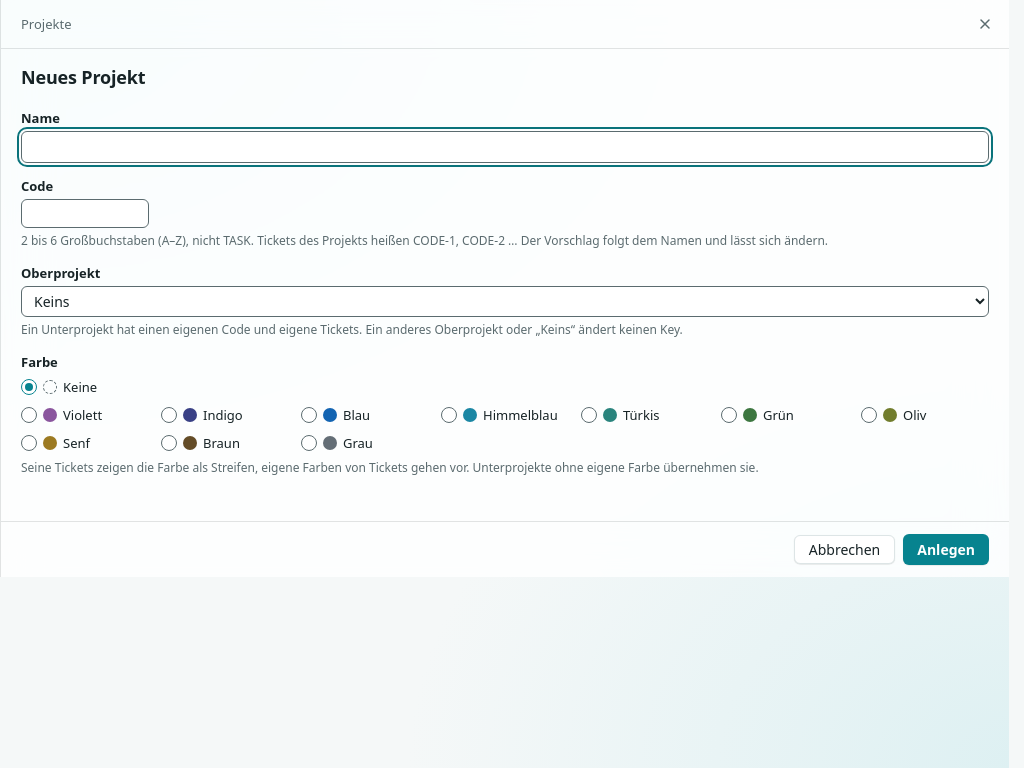
project panel: creating › checks TASK and the pattern before sending and shows the problem at the field
The image size is (1024, 768).
Type "Aufgaben" into the field labelled "Name".
click(505, 147); type("Aufgaben")  # box [21,131,989,163]
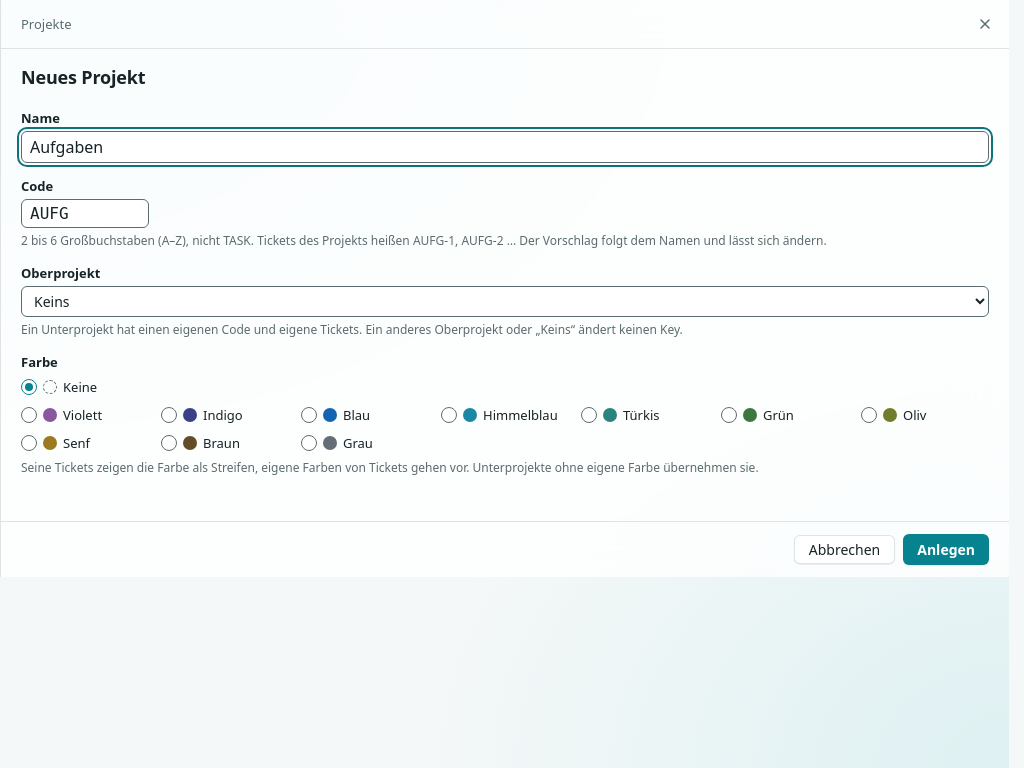
Replace the text in the field labelled "Code" with "TASK" at x=85, y=214, box [21,199,149,228]
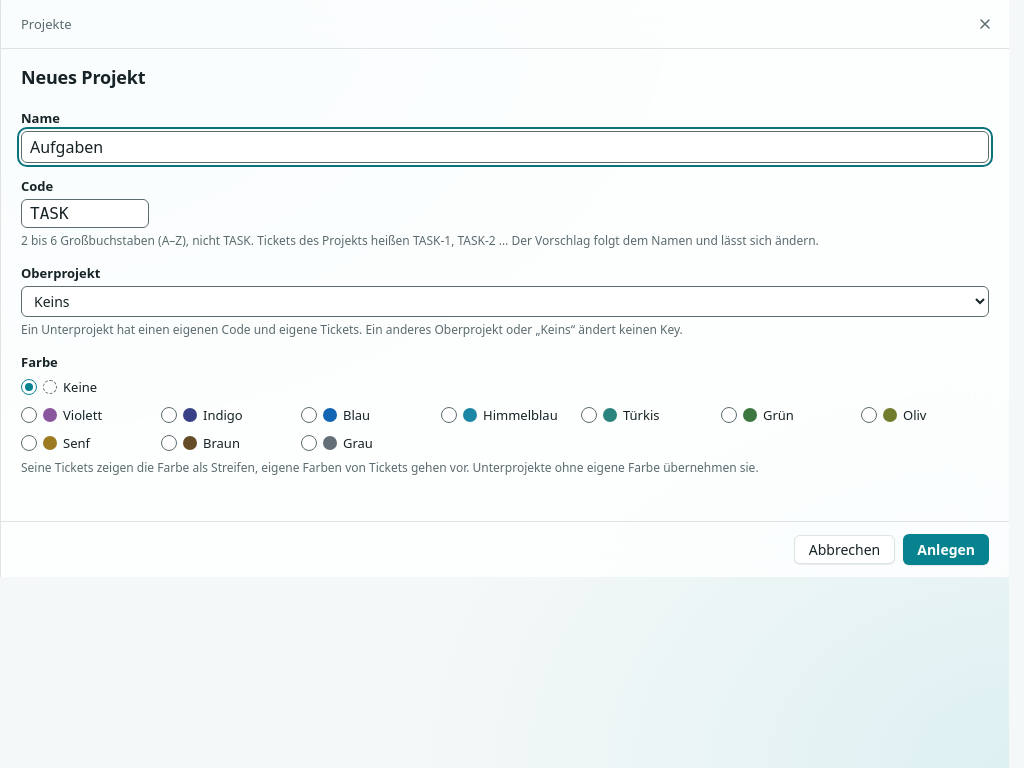
Click the button "Anlegen".
click(946, 550)  # box [903,534,989,565]
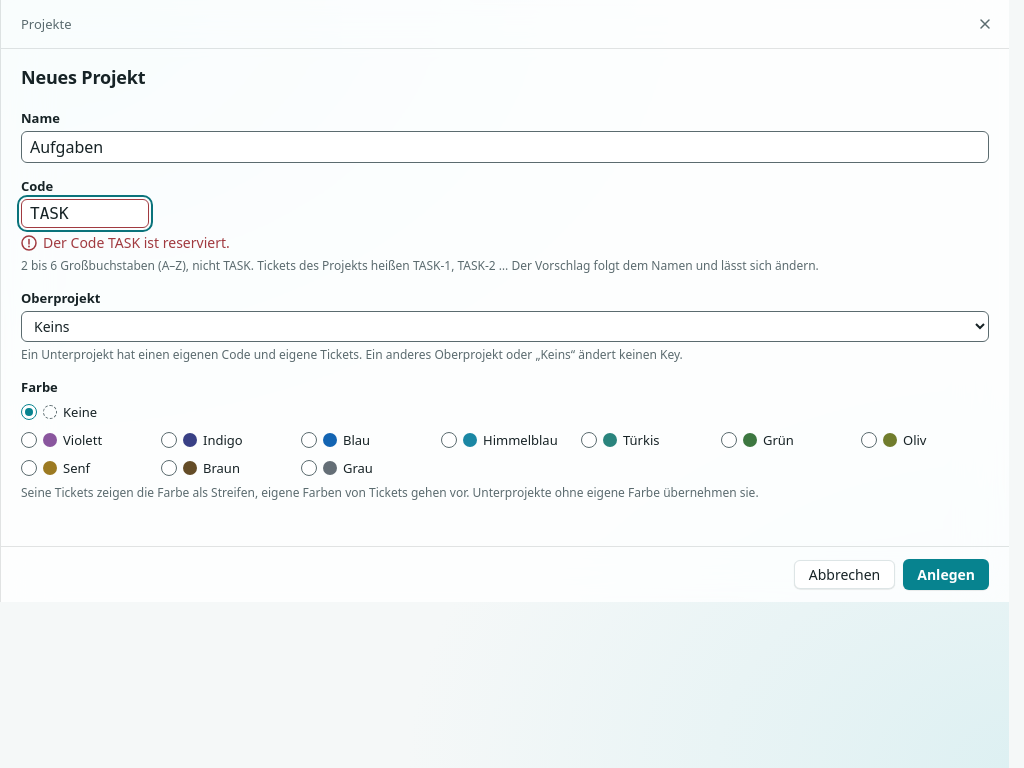
Expected: the text "Der Code TASK ist reserviert." is shown, [43,232,230,253]
Replace the text in the field labelled "Code" with "A1" at x=85, y=214, box [21,199,149,228]
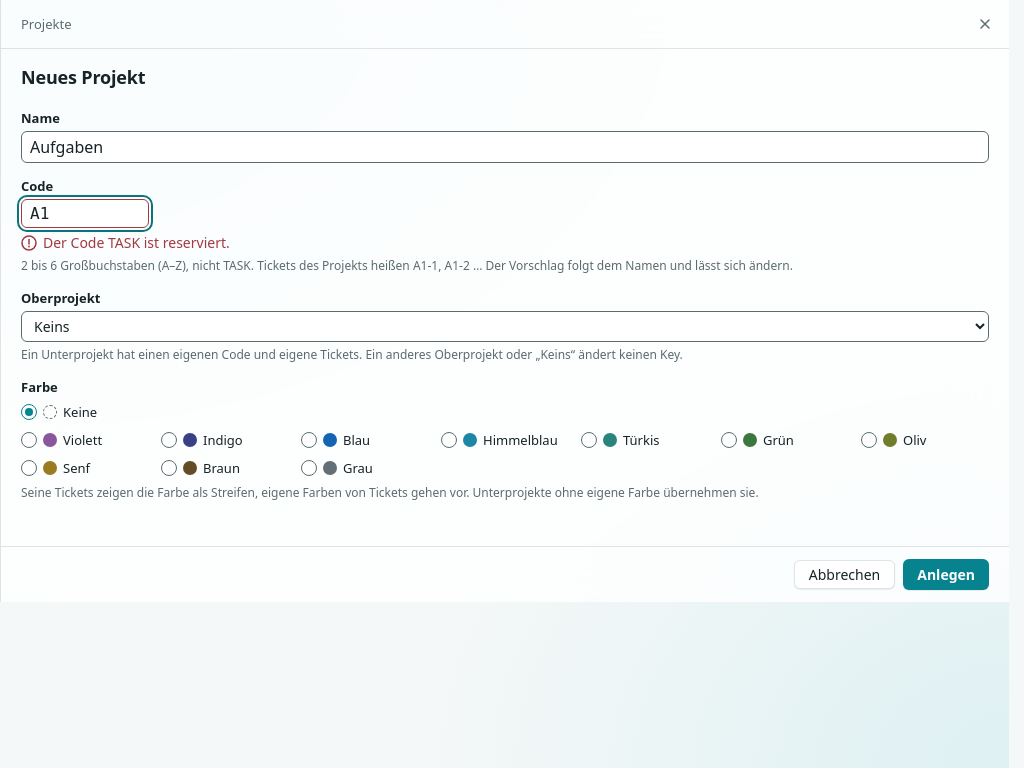
Click the button "Anlegen".
click(946, 574)  # box [903,559,989,590]
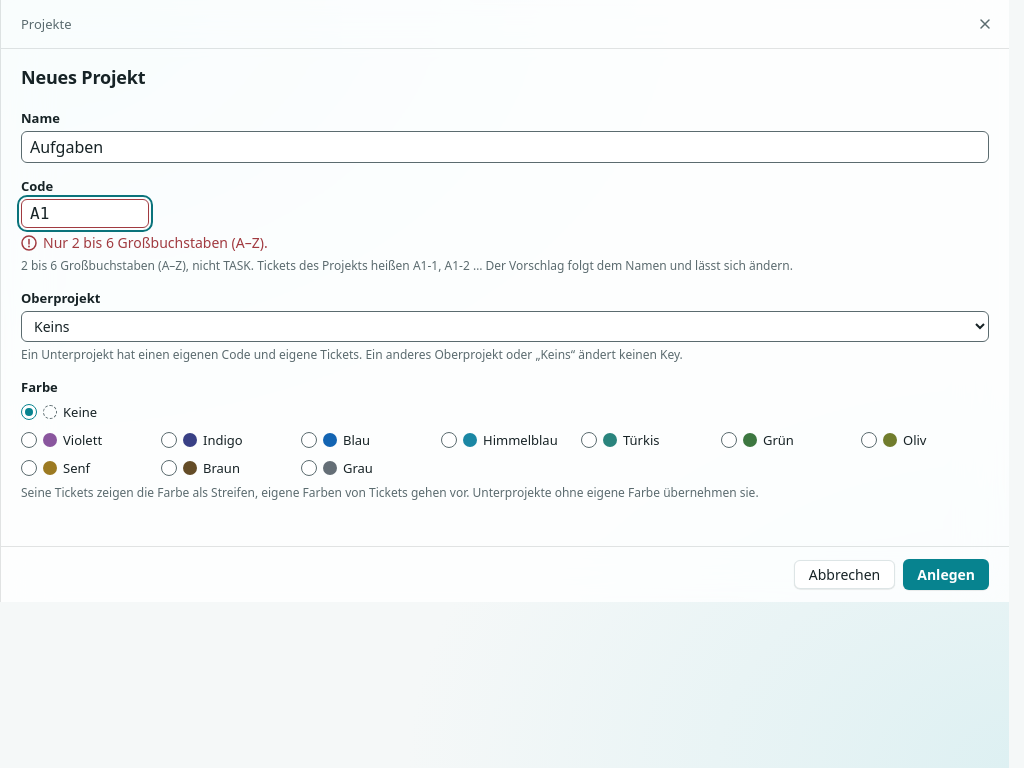
Expected: the text "Nur 2 bis 6 Großbuchstaben (A–Z)." is shown, [43,232,268,253]
